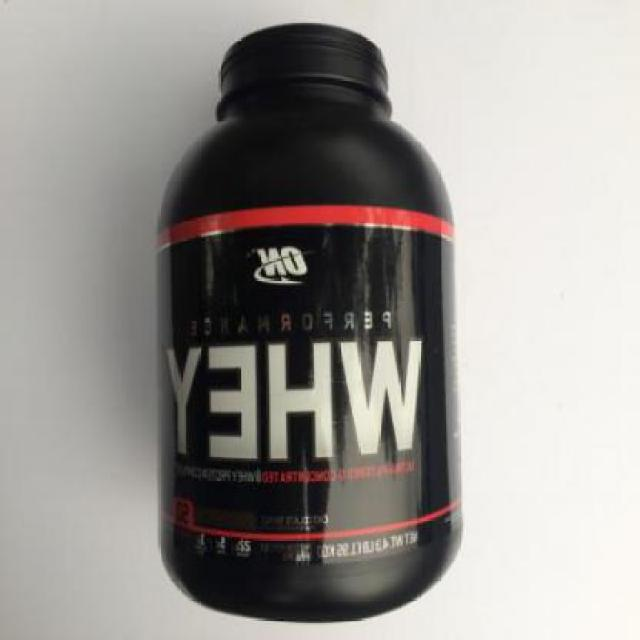PLASTIC: (157, 20, 461, 622), (156, 202, 458, 568)
